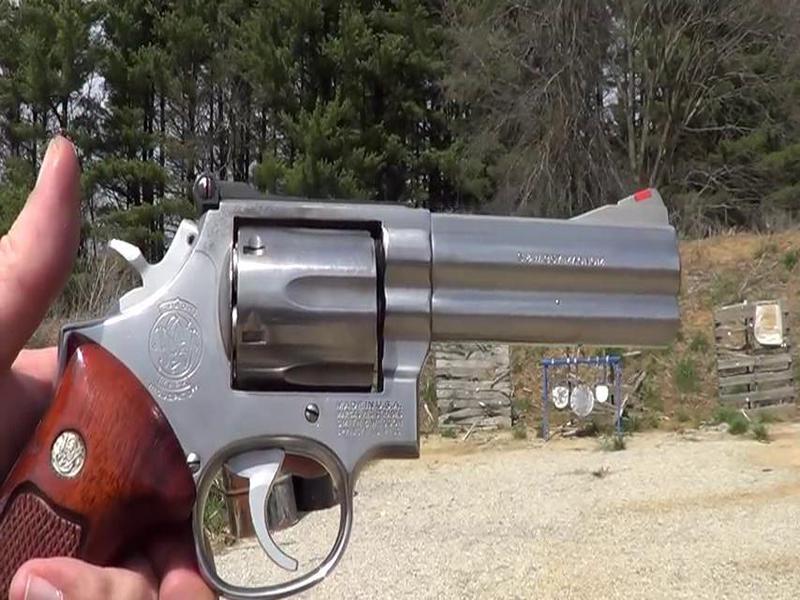Revolver: (31, 159, 706, 574)
